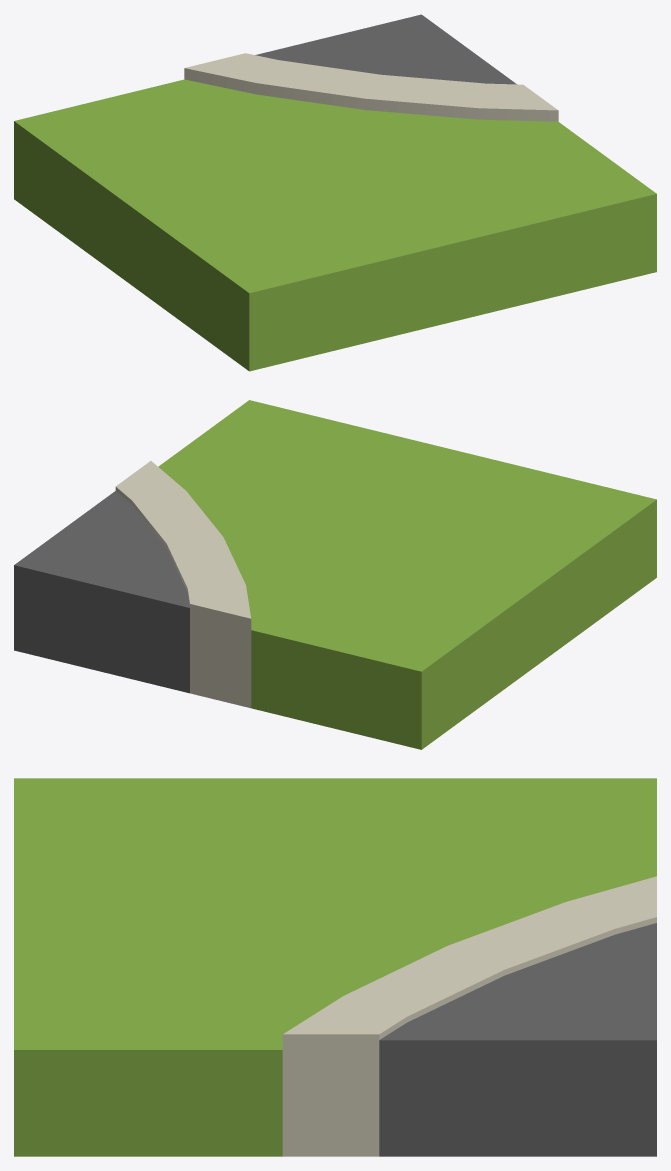
The model's file is roadTile_144.fbx.
3 views of the same model, one above another, from view 1: azimuth 30°, elevation 25°; view 2: azimuth 150°, elevation 25°; view 3: azimuth 270°, elevation 25° (orthographic). The views are drawn at different scales.
Visible parts, largest first — view 1: roadTile_144; view 2: roadTile_144; view 3: roadTile_144.
Boxes of the visible parts, x1=… form: roadTile_144: x1=14, y1=14, x2=656, y2=371; roadTile_144: x1=14, y1=400, x2=656, y2=749; roadTile_144: x1=14, y1=778, x2=656, y2=1156.
Bounding box in the file's own units: 118 × 24.8 × 118.
